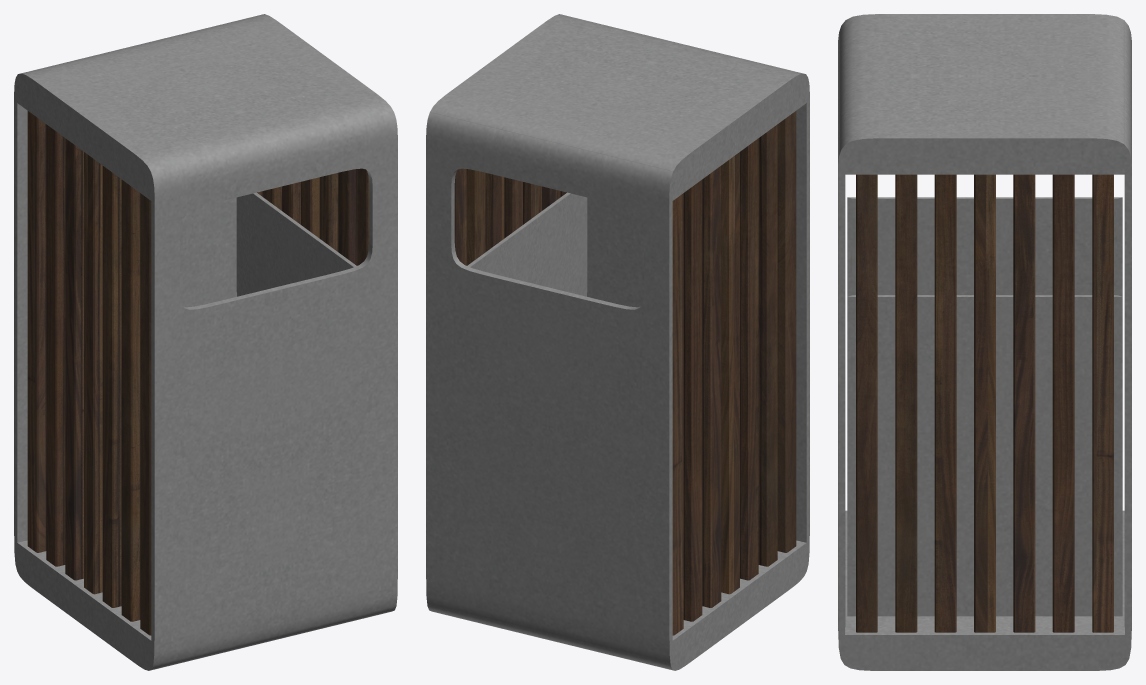
The model's file is Spazzatura.fbx.
3 views of the same model, side by side, from view 1: azimuth 30°, elevation 25°; view 2: azimuth 150°, elevation 25°; view 3: azimuth 270°, elevation 25° (orthographic). The views are drawn at different scales.
Parts seen in each view (by area): view 1: Luca3D_Trash_Bin_1; view 2: Luca3D_Trash_Bin_1; view 3: Luca3D_Trash_Bin_1.
Part boxes in pixels (bbox=[...]): Luca3D_Trash_Bin_1: bbox=[14, 14, 397, 670]; Luca3D_Trash_Bin_1: bbox=[426, 14, 809, 670]; Luca3D_Trash_Bin_1: bbox=[838, 14, 1131, 670].
Bounding box in the file's own units: 40 × 80 × 40.
